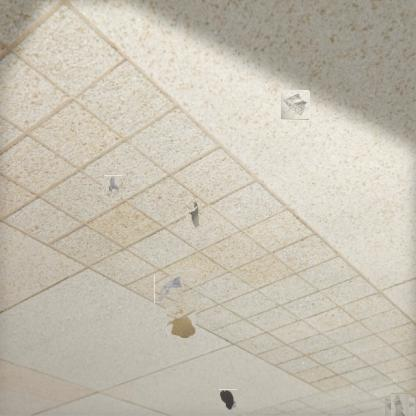dirty: (280, 91, 310, 120), (154, 275, 183, 303), (388, 395, 412, 416), (186, 202, 202, 232), (103, 176, 124, 198)
liquid: (166, 306, 196, 338), (219, 389, 237, 410)
